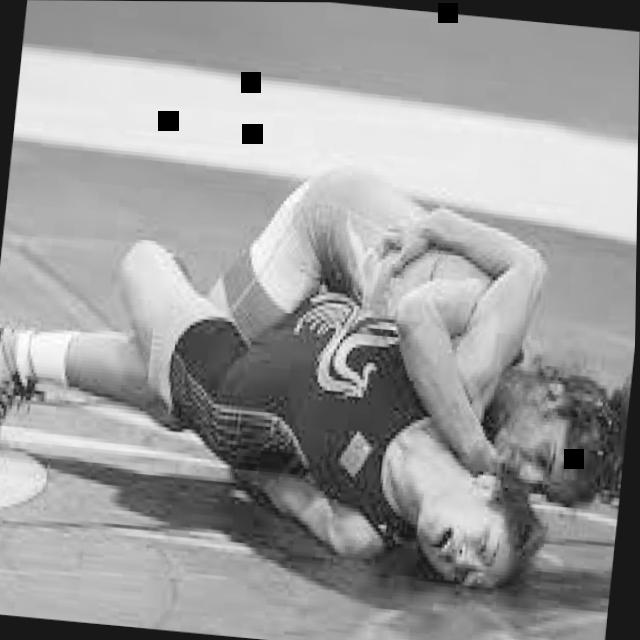Fall-Detected: (0, 84, 612, 615)
